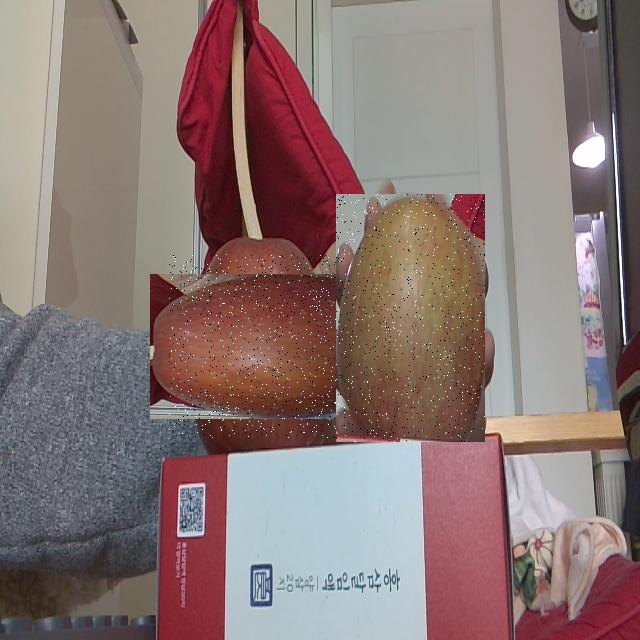apple: (336, 195, 485, 442), (169, 254, 353, 438)
